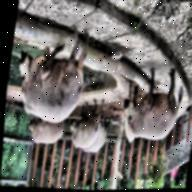boar: (4, 28, 97, 125), (112, 67, 192, 144), (56, 98, 115, 157), (21, 108, 74, 155)
